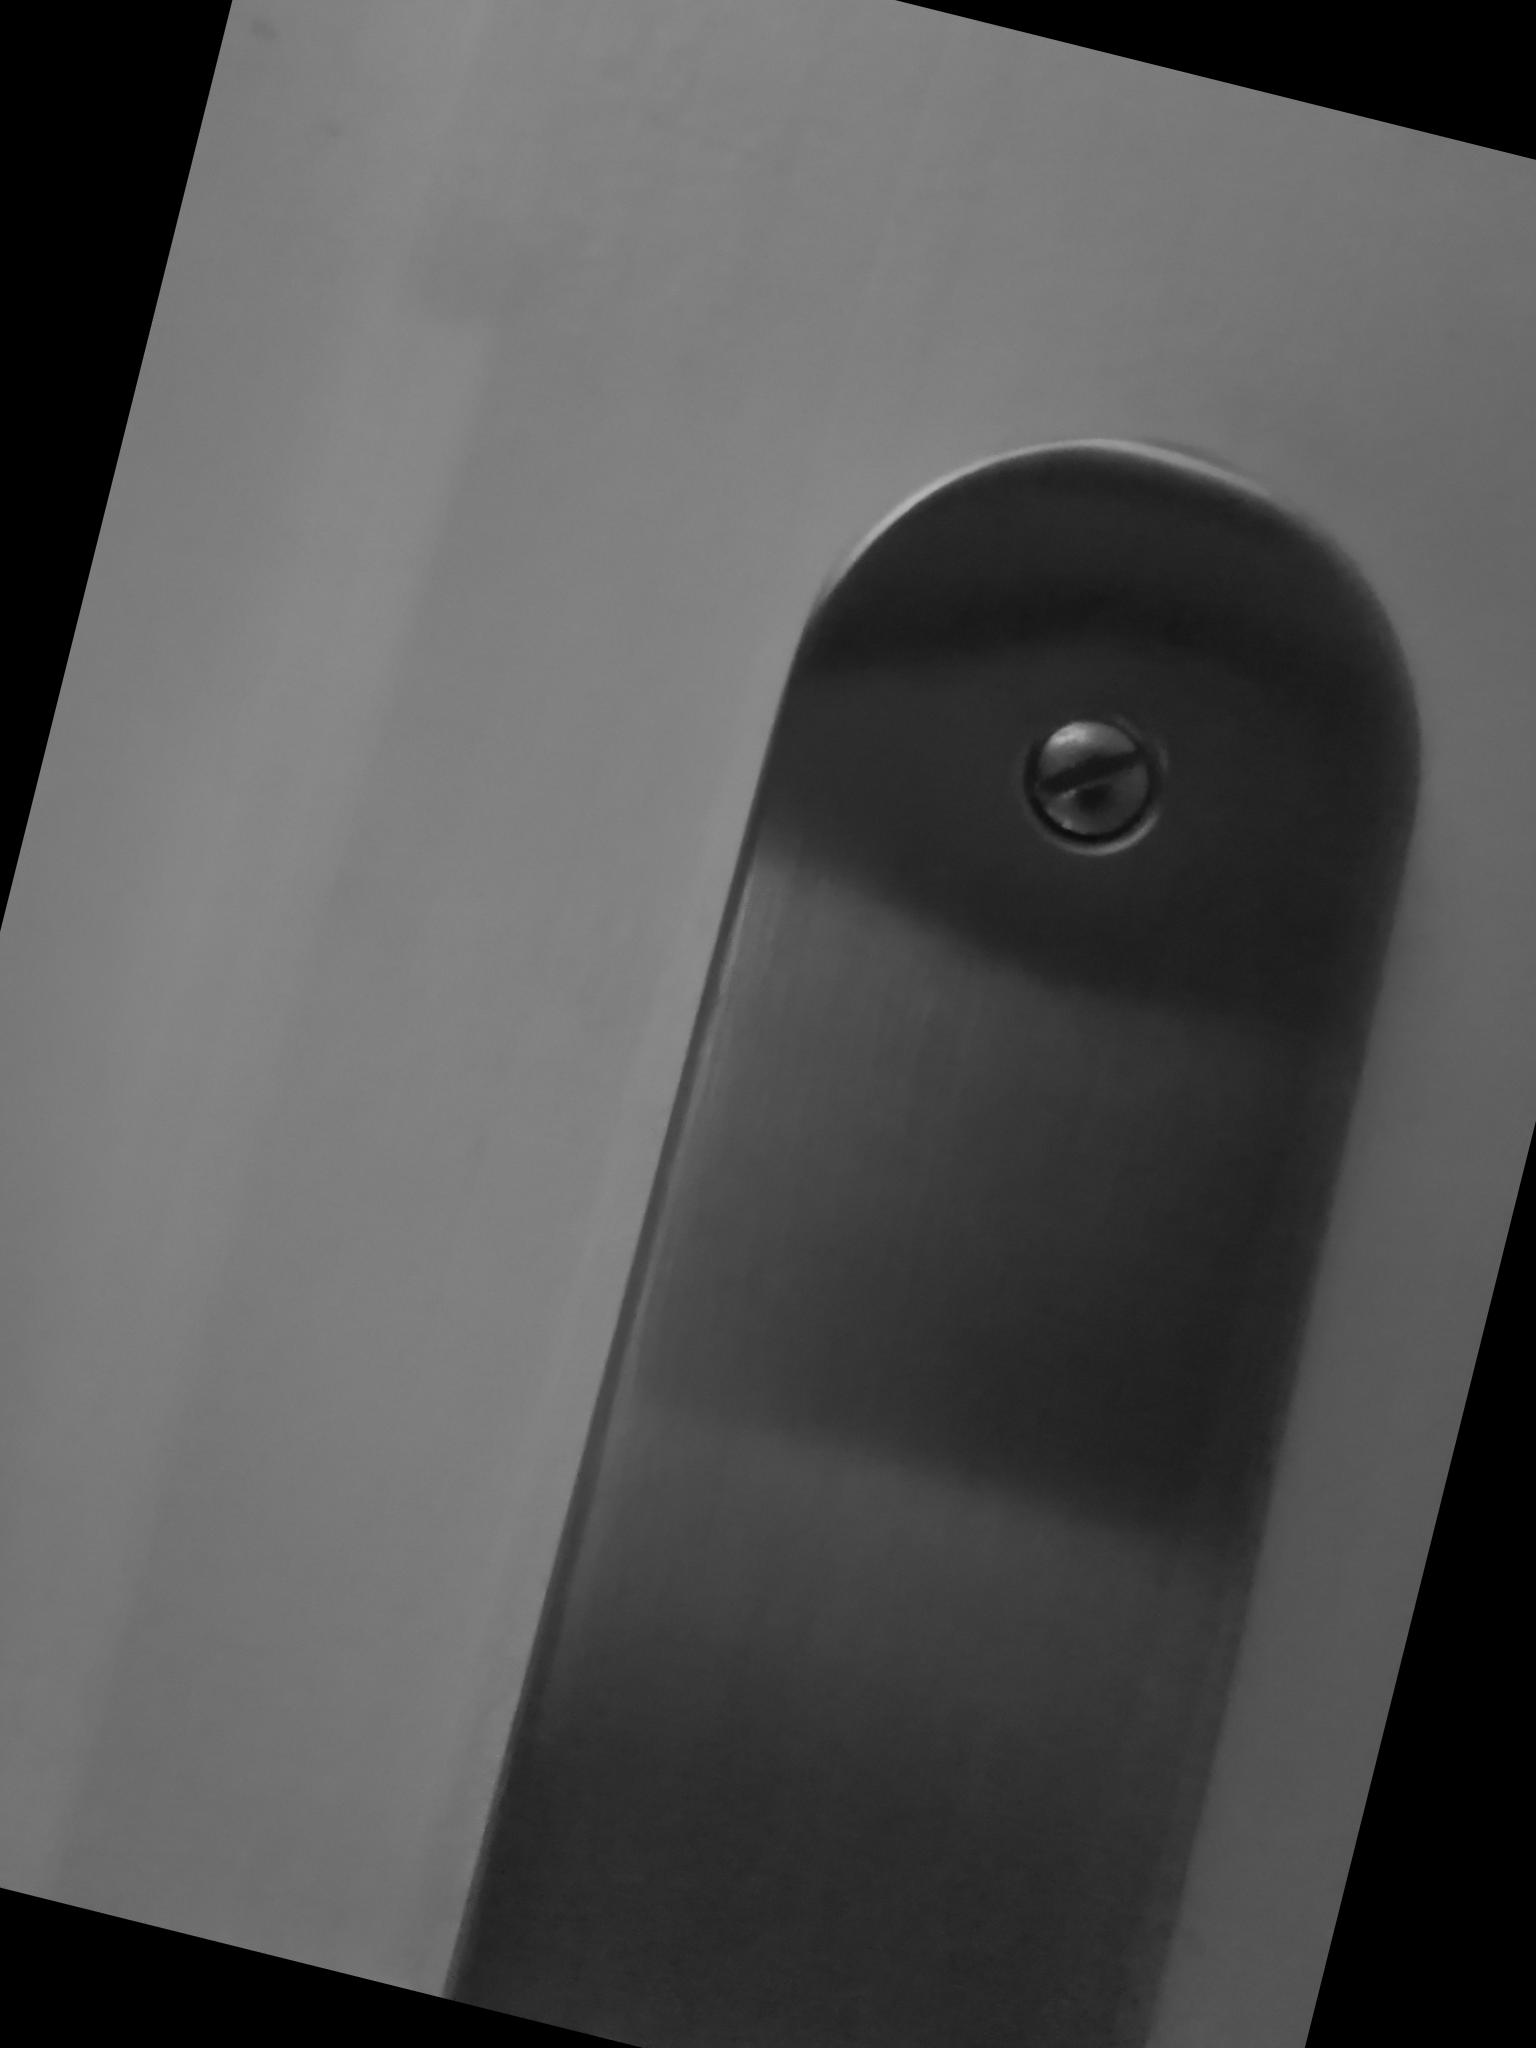screw: (991, 682, 1196, 876)
